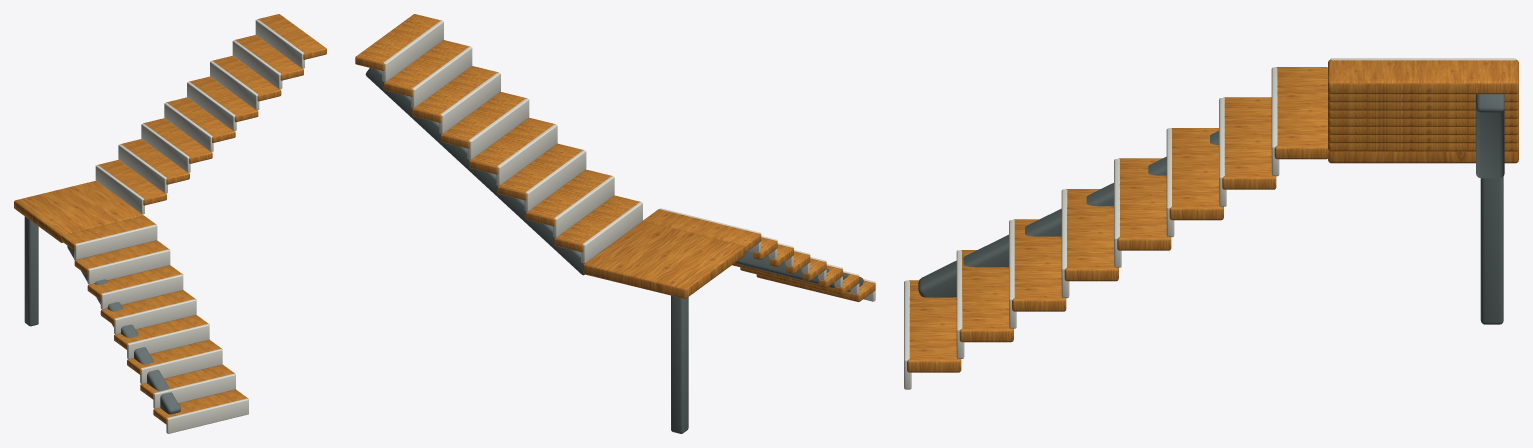
File: stairs-l-turn.glb
The picture shows the model from 3 angles, left to right: view 1: azimuth 30°, elevation 25°; view 2: azimuth 150°, elevation 25°; view 3: azimuth 270°, elevation 25°; orthographic projection. The views are drawn at different scales.
Visible parts, largest first — view 1: stairs-l-turn; view 2: stairs-l-turn; view 3: stairs-l-turn.
Part boxes in pixels (x1,y1,x2,y2): stairs-l-turn: (14,14,326,433); stairs-l-turn: (355,14,875,433); stairs-l-turn: (904,58,1518,389).
Bounding box in the file's own units: 3.2 × 2.8 × 3.2.
Materials: 3 (1 with a texture image).
